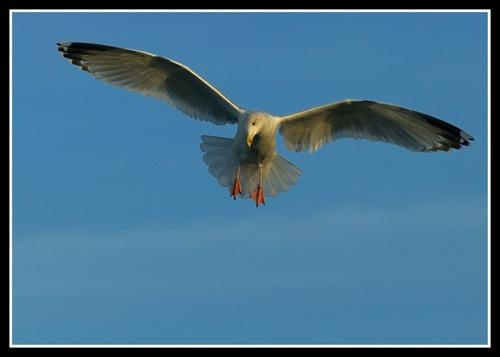bird: (54, 39, 478, 208)
